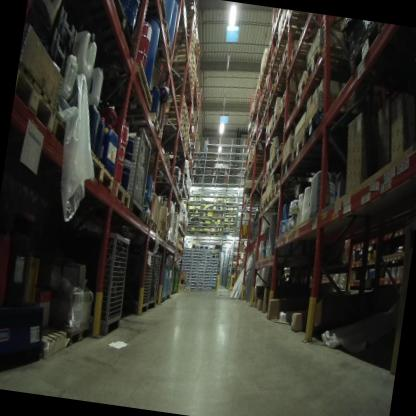pallet: (93, 50, 162, 117), (9, 60, 63, 134), (78, 0, 143, 49), (302, 99, 368, 147), (305, 46, 356, 89), (129, 17, 177, 61), (79, 145, 120, 194), (47, 107, 84, 160), (23, 325, 68, 364), (119, 110, 167, 139), (289, 135, 330, 166), (293, 69, 323, 111), (276, 10, 320, 38), (287, 39, 317, 73), (272, 27, 304, 57), (107, 177, 133, 212), (264, 192, 301, 212), (279, 44, 305, 72), (142, 0, 171, 25), (268, 47, 297, 72), (163, 52, 194, 75), (270, 180, 302, 202), (146, 149, 174, 172), (281, 157, 310, 179), (159, 116, 185, 136), (276, 92, 299, 114), (272, 110, 296, 131), (264, 127, 291, 145), (266, 83, 288, 105), (261, 71, 283, 93), (259, 197, 283, 217), (172, 24, 198, 42), (172, 36, 197, 53), (255, 95, 273, 117), (260, 105, 276, 128), (166, 94, 188, 110), (162, 103, 186, 117), (272, 145, 287, 167), (160, 112, 185, 125), (274, 66, 290, 86), (172, 47, 195, 58), (146, 216, 160, 234), (193, 35, 205, 55), (141, 208, 152, 228), (258, 168, 269, 187), (189, 76, 201, 90), (154, 225, 164, 240), (188, 63, 198, 78), (189, 52, 199, 66), (174, 134, 185, 146), (267, 160, 274, 177), (169, 242, 181, 251), (161, 230, 168, 244), (164, 234, 172, 246), (166, 242, 176, 250), (181, 126, 187, 139), (181, 120, 188, 131), (185, 119, 191, 131), (183, 114, 189, 125), (184, 129, 191, 137), (184, 107, 190, 116), (183, 137, 189, 146), (182, 144, 188, 152)
stillage: (76, 228, 139, 352), (103, 122, 154, 216), (125, 249, 156, 312), (146, 249, 165, 312)
